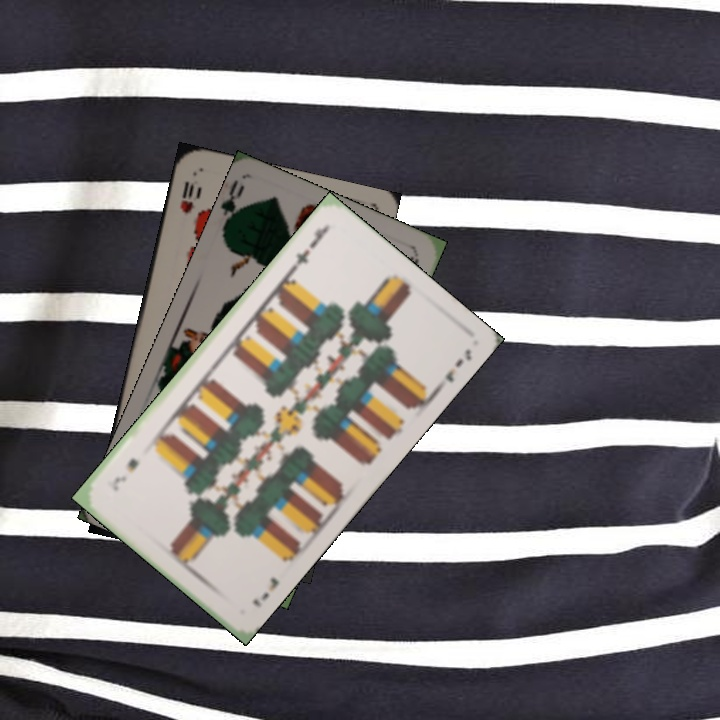E7: (287, 222, 331, 273), (248, 573, 282, 610)
GO: (217, 178, 251, 236)
H10: (175, 176, 203, 217)
